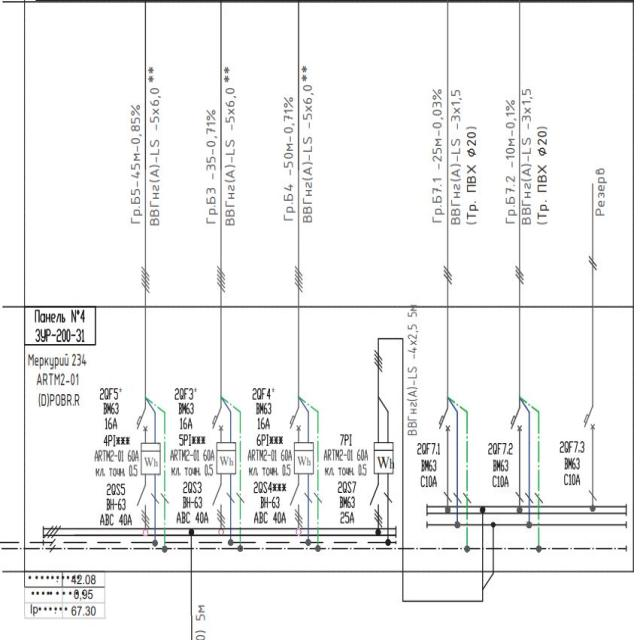-: (26, 351, 88, 411), (167, 447, 217, 479), (92, 447, 140, 480), (323, 446, 370, 479), (247, 446, 294, 477), (250, 493, 288, 525), (99, 497, 135, 529), (173, 494, 210, 525), (34, 326, 86, 343), (417, 457, 440, 492), (488, 458, 511, 492), (559, 456, 582, 490), (255, 399, 277, 433), (337, 492, 358, 526), (102, 401, 123, 432), (178, 402, 195, 431)
QF: (582, 405, 598, 506), (438, 406, 452, 506), (510, 408, 523, 505), (367, 482, 385, 530), (287, 405, 304, 434), (212, 406, 225, 434), (136, 407, 149, 435)
QS: (210, 483, 228, 530), (288, 482, 306, 528), (135, 482, 152, 530)
WH: (214, 440, 238, 477), (372, 439, 396, 476), (291, 440, 314, 477)
